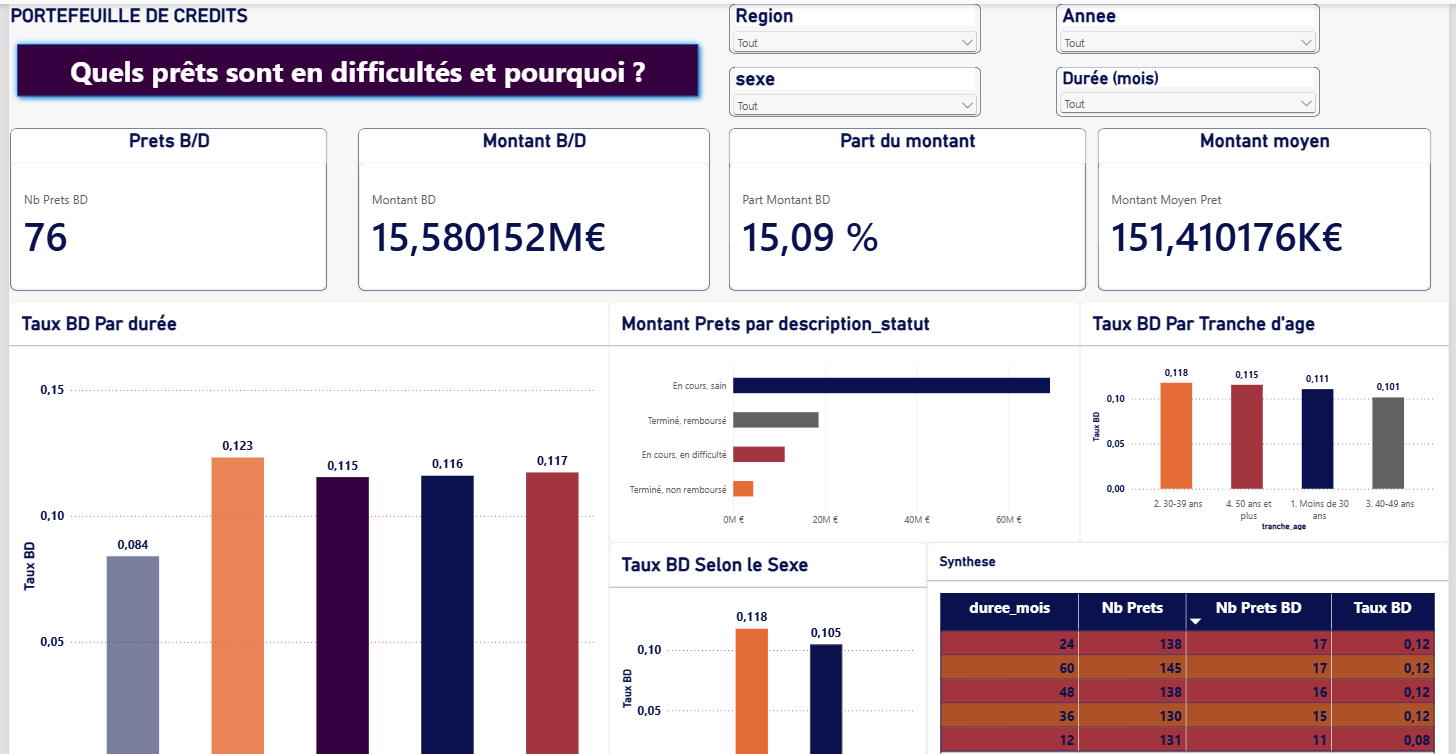

The page's visual inventory and layout, read from the dashboard file:
{"tool":"powerbi","page":{"name":"Portefeuille de crédit","canvas":[1920,1080],"ordinal":1},"visuals":[{"type":"slicer","fields":{"Values":["DimCalendrier.Annee"]},"box":[1396,0,352,66],"z":0},{"type":"slicer","fields":{"Values":["DimDistrict.region"]},"box":[960,0,336,66],"z":1000},{"type":"slicer","fields":{"Values":["Prets.sexe_titulaire"]},"box":[960,84,336,66],"z":2000},{"type":"slicer","fields":{"Values":["Prets.duree_mois"]},"box":[1396,84,352,66],"z":3000},{"type":"cardVisual","title":"Prets B/D","fields":{"Data":["Table_Mesures (3).Nb Prets BD"]},"box":[2,166,422,216],"z":4000},{"type":"cardVisual","title":"Montant B/D","fields":{"Data":["Table_Mesures (3).Montant BD"]},"box":[466,166,468,216],"z":5000},{"type":"cardVisual","title":"Part du montant","fields":{"Data":["Table_Mesures (3).Part Montant BD"]},"box":[960,166,476,216],"z":6000},{"type":"cardVisual","title":"Montant moyen","fields":{"Data":["Table_Mesures (3).Montant Moyen Pret"]},"box":[1452,166,444,216],"z":7000},{"type":"columnChart","title":"Taux BD Par durée","fields":{"Category":["Prets.duree_mois"],"Y":["Table_Mesures (3).Taux BD"]},"box":[0,396,800,684],"z":8000},{"type":"barChart","fields":{"Y":["Table_Mesures (3).Montant Prets"],"Category":["DimStatut.description_statut"]},"box":[800,396,628,322],"z":9000},{"type":"columnChart","title":"Taux BD Selon le Sexe","fields":{"Category":["Prets.sexe_titulaire"],"Y":["Table_Mesures (3).Taux BD"]},"box":[800,718,424,362],"z":10000},{"type":"columnChart","title":"Taux BD Par Tranche d''age","fields":{"Y":["Table_Mesures (3).Taux BD"],"Category":["Prets.tranche_age"]},"box":[1428,396,492,322],"z":11000},{"type":"tableEx","title":"Synthese","fields":{"Values":["Prets.duree_mois","Table_Mesures (3).Nb Prets","Table_Mesures (3).Nb Prets BD","Table_Mesures (3).Taux BD"]},"box":[1224,718,696,362],"z":12000},{"type":"shape","title":"PORTEFEUILLE DE CREDITS","box":[2,0,926,132],"z":13000}]}

Visuals, with their boxes on the page's 1920x1080 design canvas (x1, y1, x2, y2). These are canvas units, not pixel positions in the 1456x754 screenshot, which may show the page scaled, cropped or inside an application window:
slicer - DimCalendrier.Annee: l=1396, t=0, r=1748, b=66
slicer - DimDistrict.region: l=960, t=0, r=1296, b=66
slicer - Prets.sexe_titulaire: l=960, t=84, r=1296, b=150
slicer - Prets.duree_mois: l=1396, t=84, r=1748, b=150
"Prets B/D" cardVisual: l=2, t=166, r=424, b=382
"Montant B/D" cardVisual: l=466, t=166, r=934, b=382
"Part du montant" cardVisual: l=960, t=166, r=1436, b=382
"Montant moyen" cardVisual: l=1452, t=166, r=1896, b=382
"Taux BD Par durée" columnChart: l=0, t=396, r=800, b=1080
barChart - Table_Mesures (3).Montant Prets x DimStatut.description_statut: l=800, t=396, r=1428, b=718
"Taux BD Selon le Sexe" columnChart: l=800, t=718, r=1224, b=1080
"Taux BD Par Tranche d''age" columnChart: l=1428, t=396, r=1920, b=718
"Synthese" tableEx: l=1224, t=718, r=1920, b=1080
"PORTEFEUILLE DE CREDITS" shape: l=2, t=0, r=928, b=132
